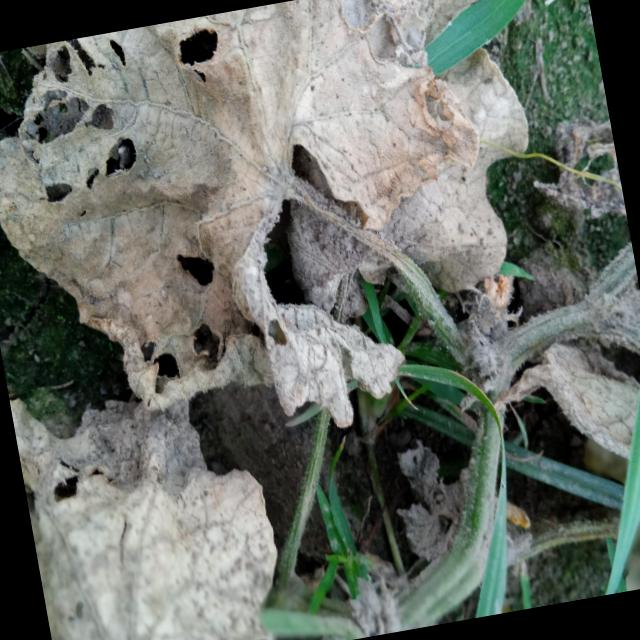cucumber_bacterial: (0, 0, 585, 428), (27, 413, 311, 640)
